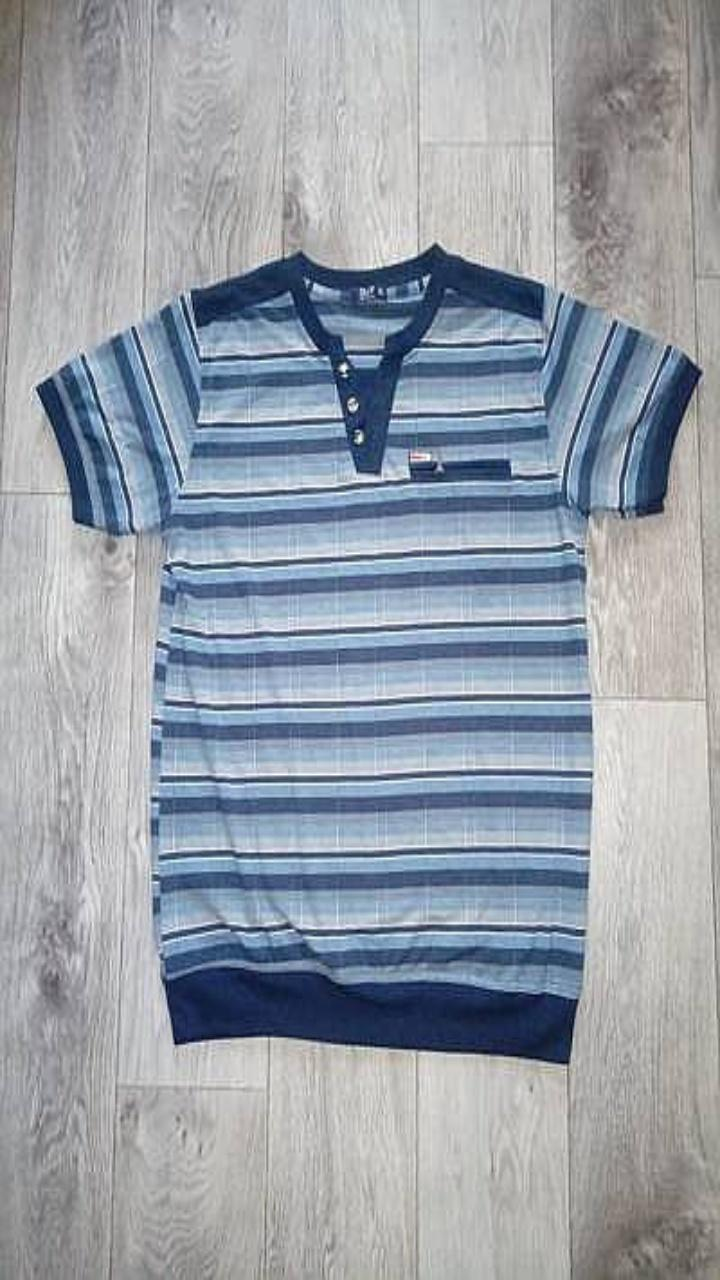T-Shirt: (35, 243, 700, 1061)
